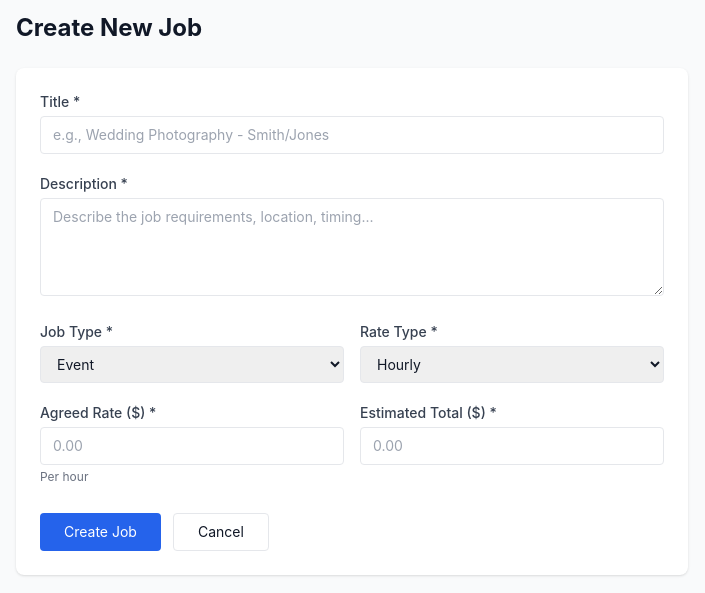
it: JobCreatePage › disables submit button while loading
The image size is (705, 593).
Type "T" into the field with placeholder "e.g., Wedding Photography - Smith/Jones" at (352, 135), box [40,116,664,154]
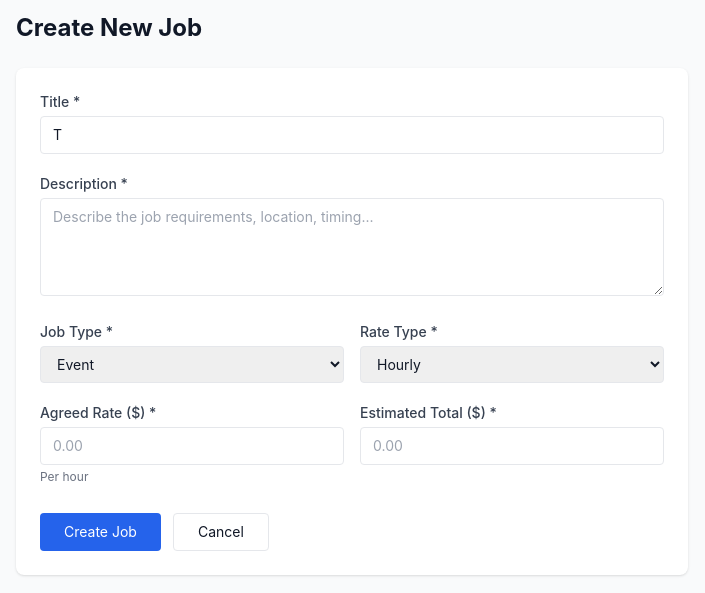
Type "D" into the text box with placeholder "Describe the job requirements, location, timing..." at (352, 247), box [40,198,664,296]
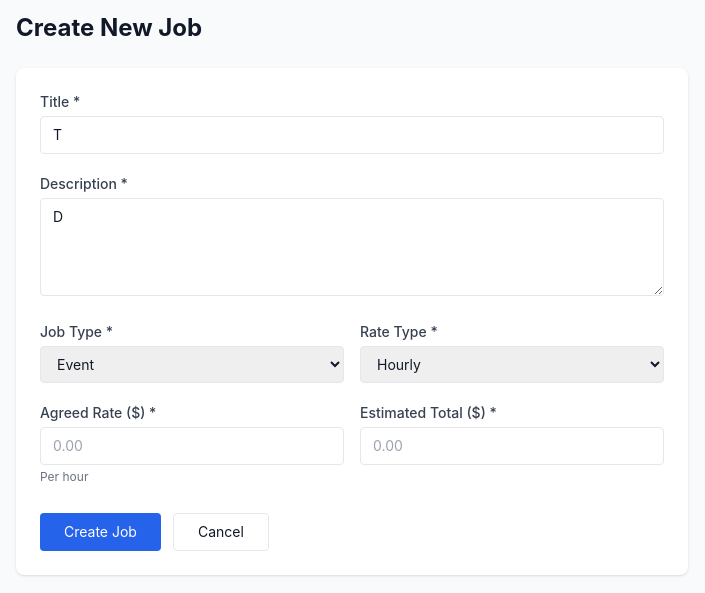
Type "10" into the number field with placeholder "0.00" below "Agreed Rate ($) *" at (192, 446), box [40,427,344,465]
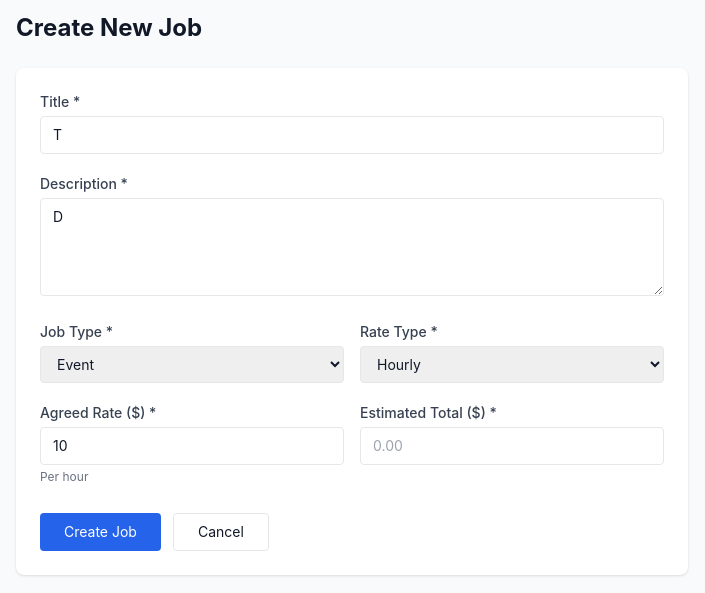
Type "10" into the number field with placeholder "0.00" at (512, 446), box [360,427,664,465]
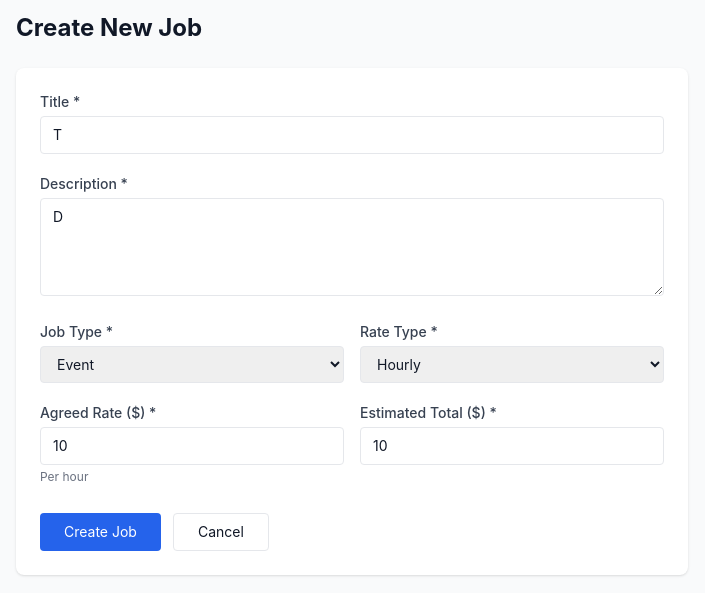
Click the button "Create Job" at (100, 532), box [40,513,161,551]
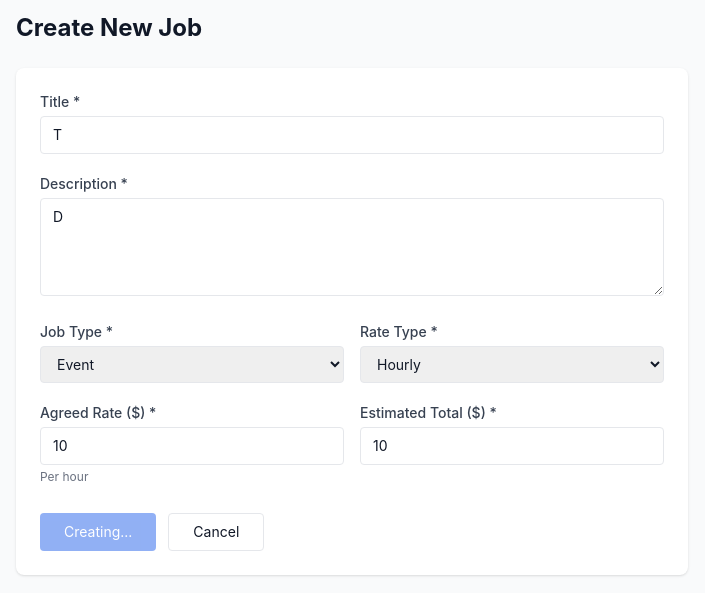
Expected: the button "Creating..." is disabled, [40,513,156,551]
